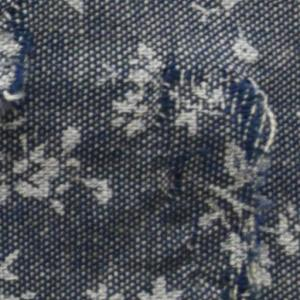Damage: (151, 46, 282, 300), (1, 1, 48, 150)
